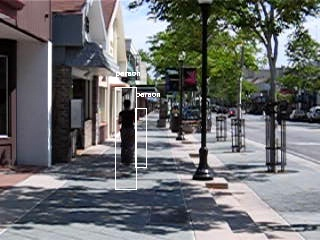person: (117, 100, 138, 166), (116, 100, 137, 166), (118, 100, 139, 166), (117, 99, 138, 165), (117, 101, 138, 167)
target_negative: (34, 30, 316, 117), (62, 72, 205, 129), (14, 109, 215, 147), (150, 18, 197, 137), (250, 150, 294, 210), (247, 107, 301, 127)
